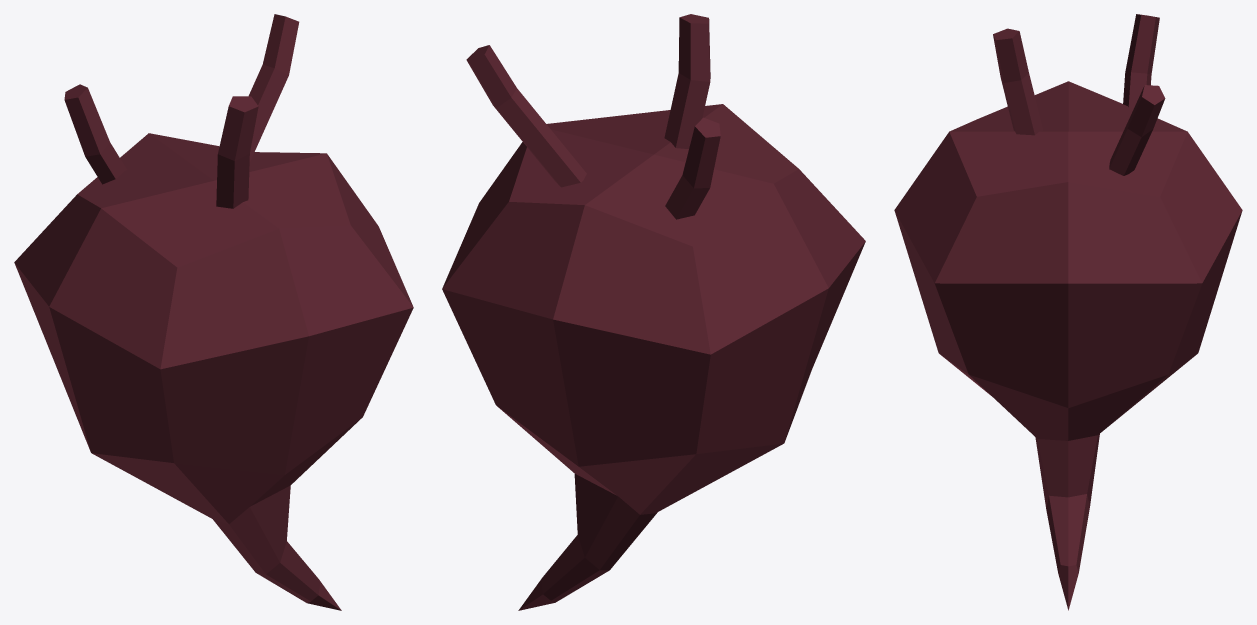
Rendered from Beet_Crop.gltf.
The picture shows the model from 3 angles, left to right: view 1: azimuth 30°, elevation 25°; view 2: azimuth 150°, elevation 25°; view 3: azimuth 270°, elevation 25°; orthographic projection. The views are drawn at different scales.
Visible parts, largest first — view 1: Beet_Crop; view 2: Beet_Crop; view 3: Beet_Crop.
Part boxes in pixels (x1=…): Beet_Crop: x1=14, y1=14, x2=413, y2=610; Beet_Crop: x1=442, y1=14, x2=865, y2=610; Beet_Crop: x1=894, y1=14, x2=1242, y2=610.
Size of the model in its own units: 0.3156 by 0.5194 by 0.3156.
